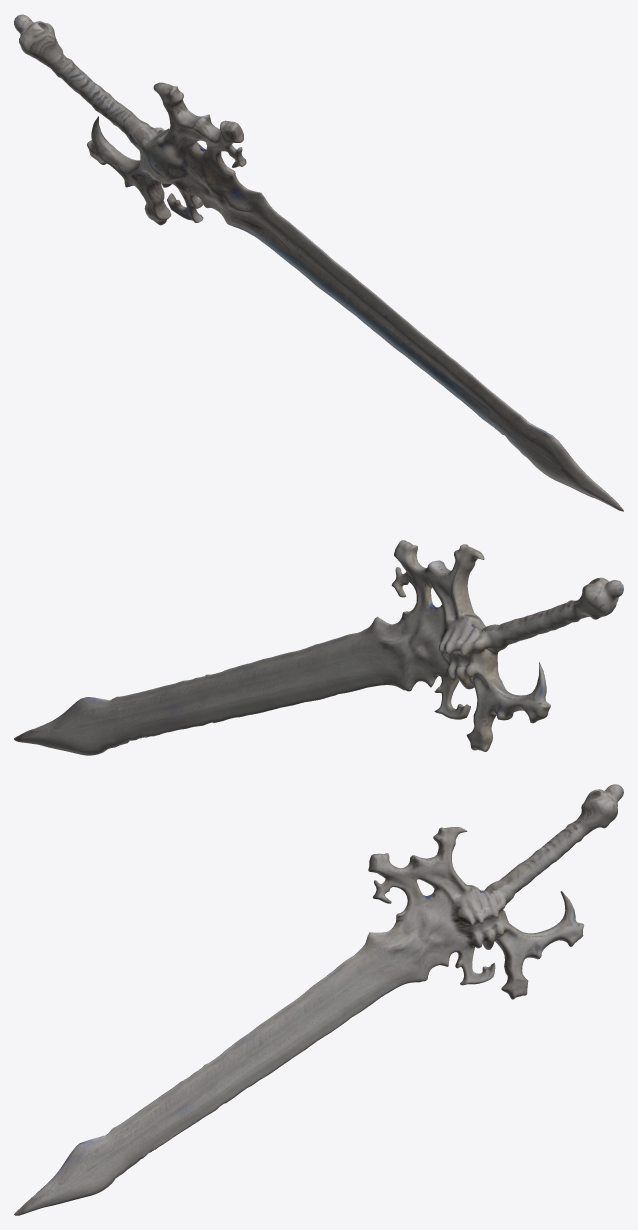
File: Mithril Sword.glb
3 views of the same model, one above another, from view 1: azimuth 30°, elevation 25°; view 2: azimuth 210°, elevation 25°; view 3: azimuth 270°, elevation 25° (orthographic). The views are drawn at different scales.
Parts seen in each view (by area): view 1: file1; view 2: file1; view 3: file1.
Boxes of the visible parts, bbox=[...] form: file1: bbox=[14, 14, 623, 511]; file1: bbox=[14, 540, 623, 755]; file1: bbox=[14, 784, 623, 1215].
Bounding box in the file's own units: 1.02 × 1.1 × 2.
Materials: 1 (1 with a texture image).
